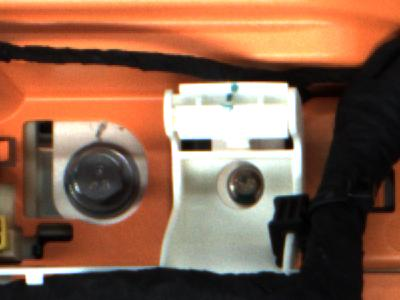nut_b: (57, 131, 155, 224)
